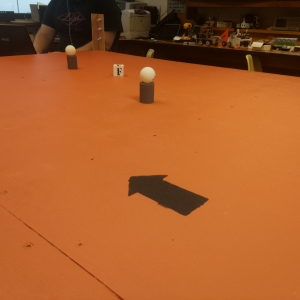blockF: (113, 63, 124, 77)
corner: (91, 13, 106, 51)
obstacle: (140, 67, 157, 104), (65, 45, 79, 70)
start: (128, 169, 211, 223)
